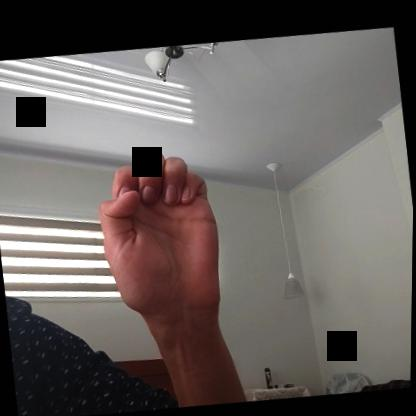E: (90, 135, 230, 324)
